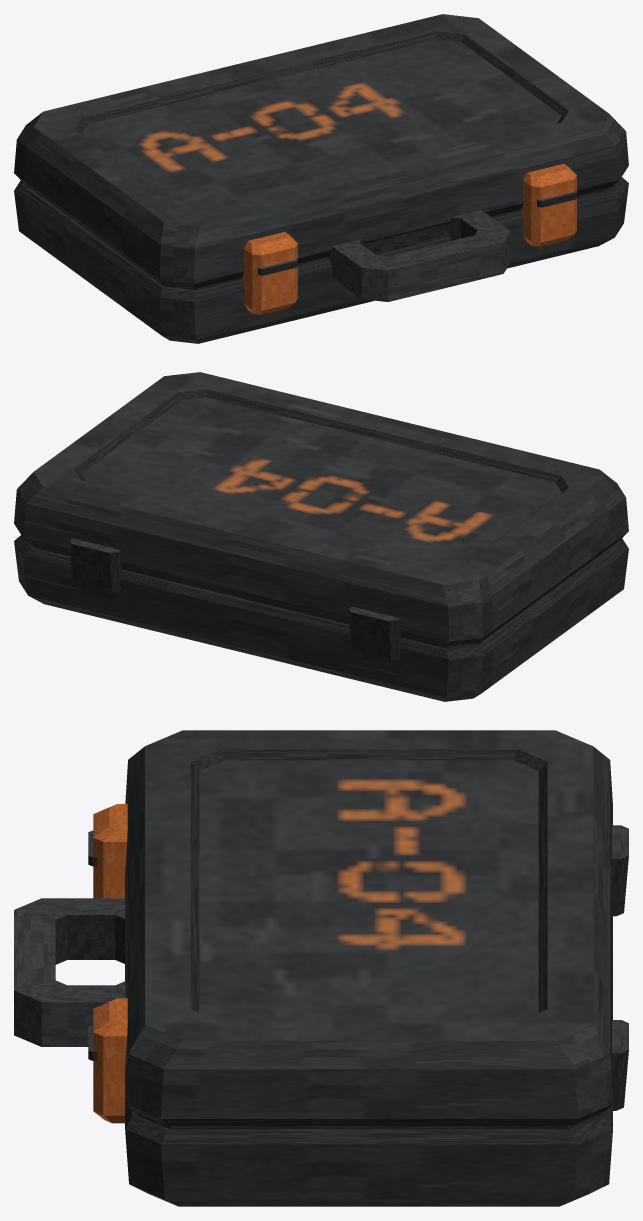
The model's file is GunCase_Model.fbx.
The picture shows the model from 3 angles, top to bottom: view 1: azimuth 30°, elevation 25°; view 2: azimuth 150°, elevation 25°; view 3: azimuth 270°, elevation 25°; orthographic projection. The views are drawn at different scales.
Parts seen in each view (by area): view 1: GunCase_Model; view 2: GunCase_Model; view 3: GunCase_Model.
Part boxes in pixels (x1,y1,x2,y2): GunCase_Model: (14, 14, 628, 343); GunCase_Model: (14, 372, 628, 701); GunCase_Model: (14, 730, 628, 1206).
Size of the model in its own units: 39 by 9.4 by 31.
